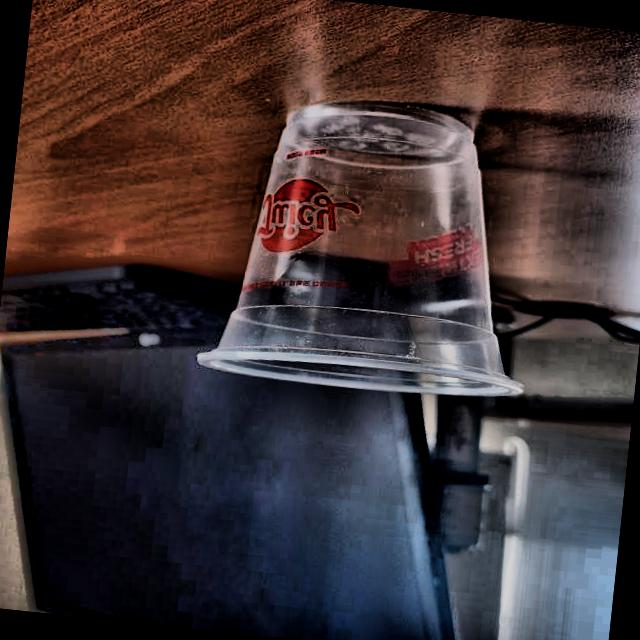plastic cup: (191, 88, 554, 410)
